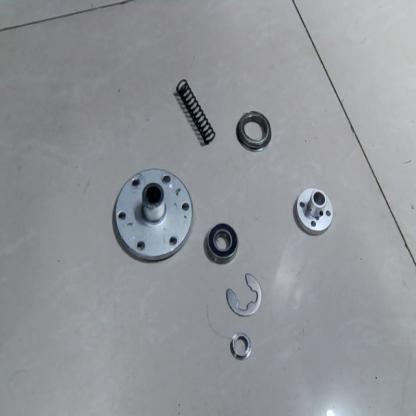FOD: (112, 170, 193, 266), (174, 72, 217, 148), (292, 186, 335, 239), (221, 271, 264, 320), (204, 220, 240, 266), (235, 110, 273, 153), (228, 330, 254, 366)
